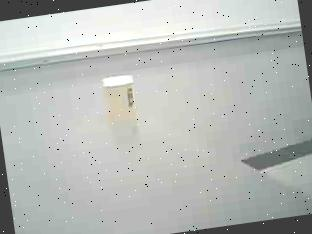Bottle B: (98, 69, 146, 140)
